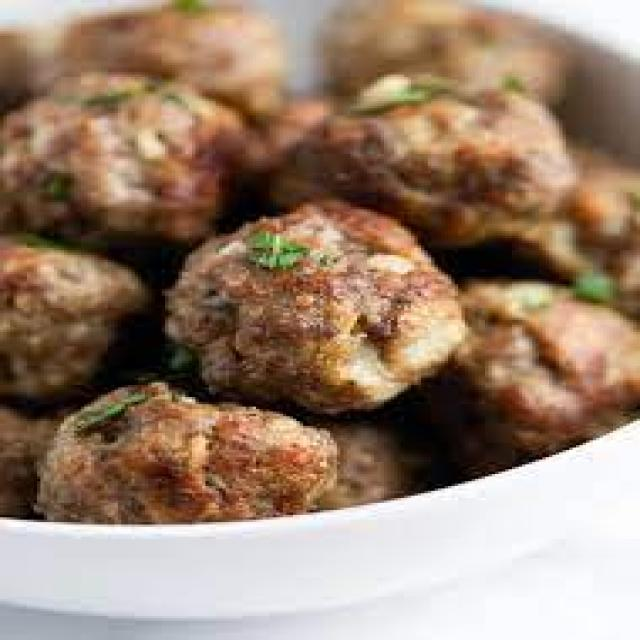Meatball: (143, 201, 505, 416), (14, 365, 340, 527), (0, 63, 262, 259), (307, 70, 579, 242)
